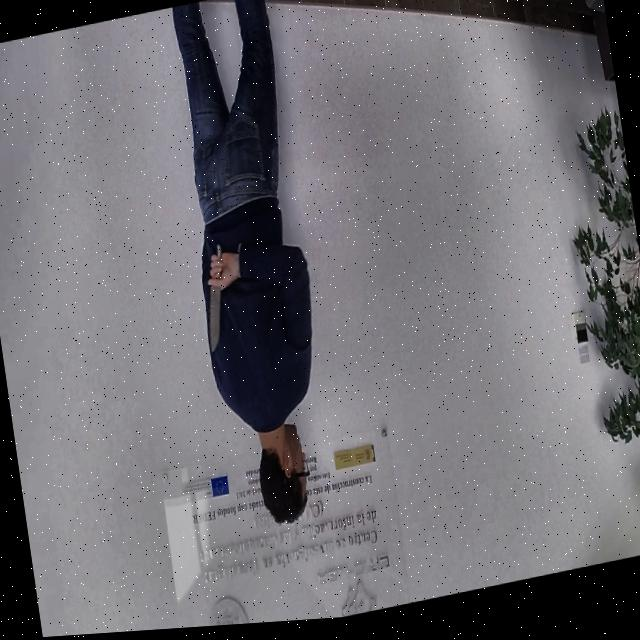knife: (197, 283, 230, 356)
